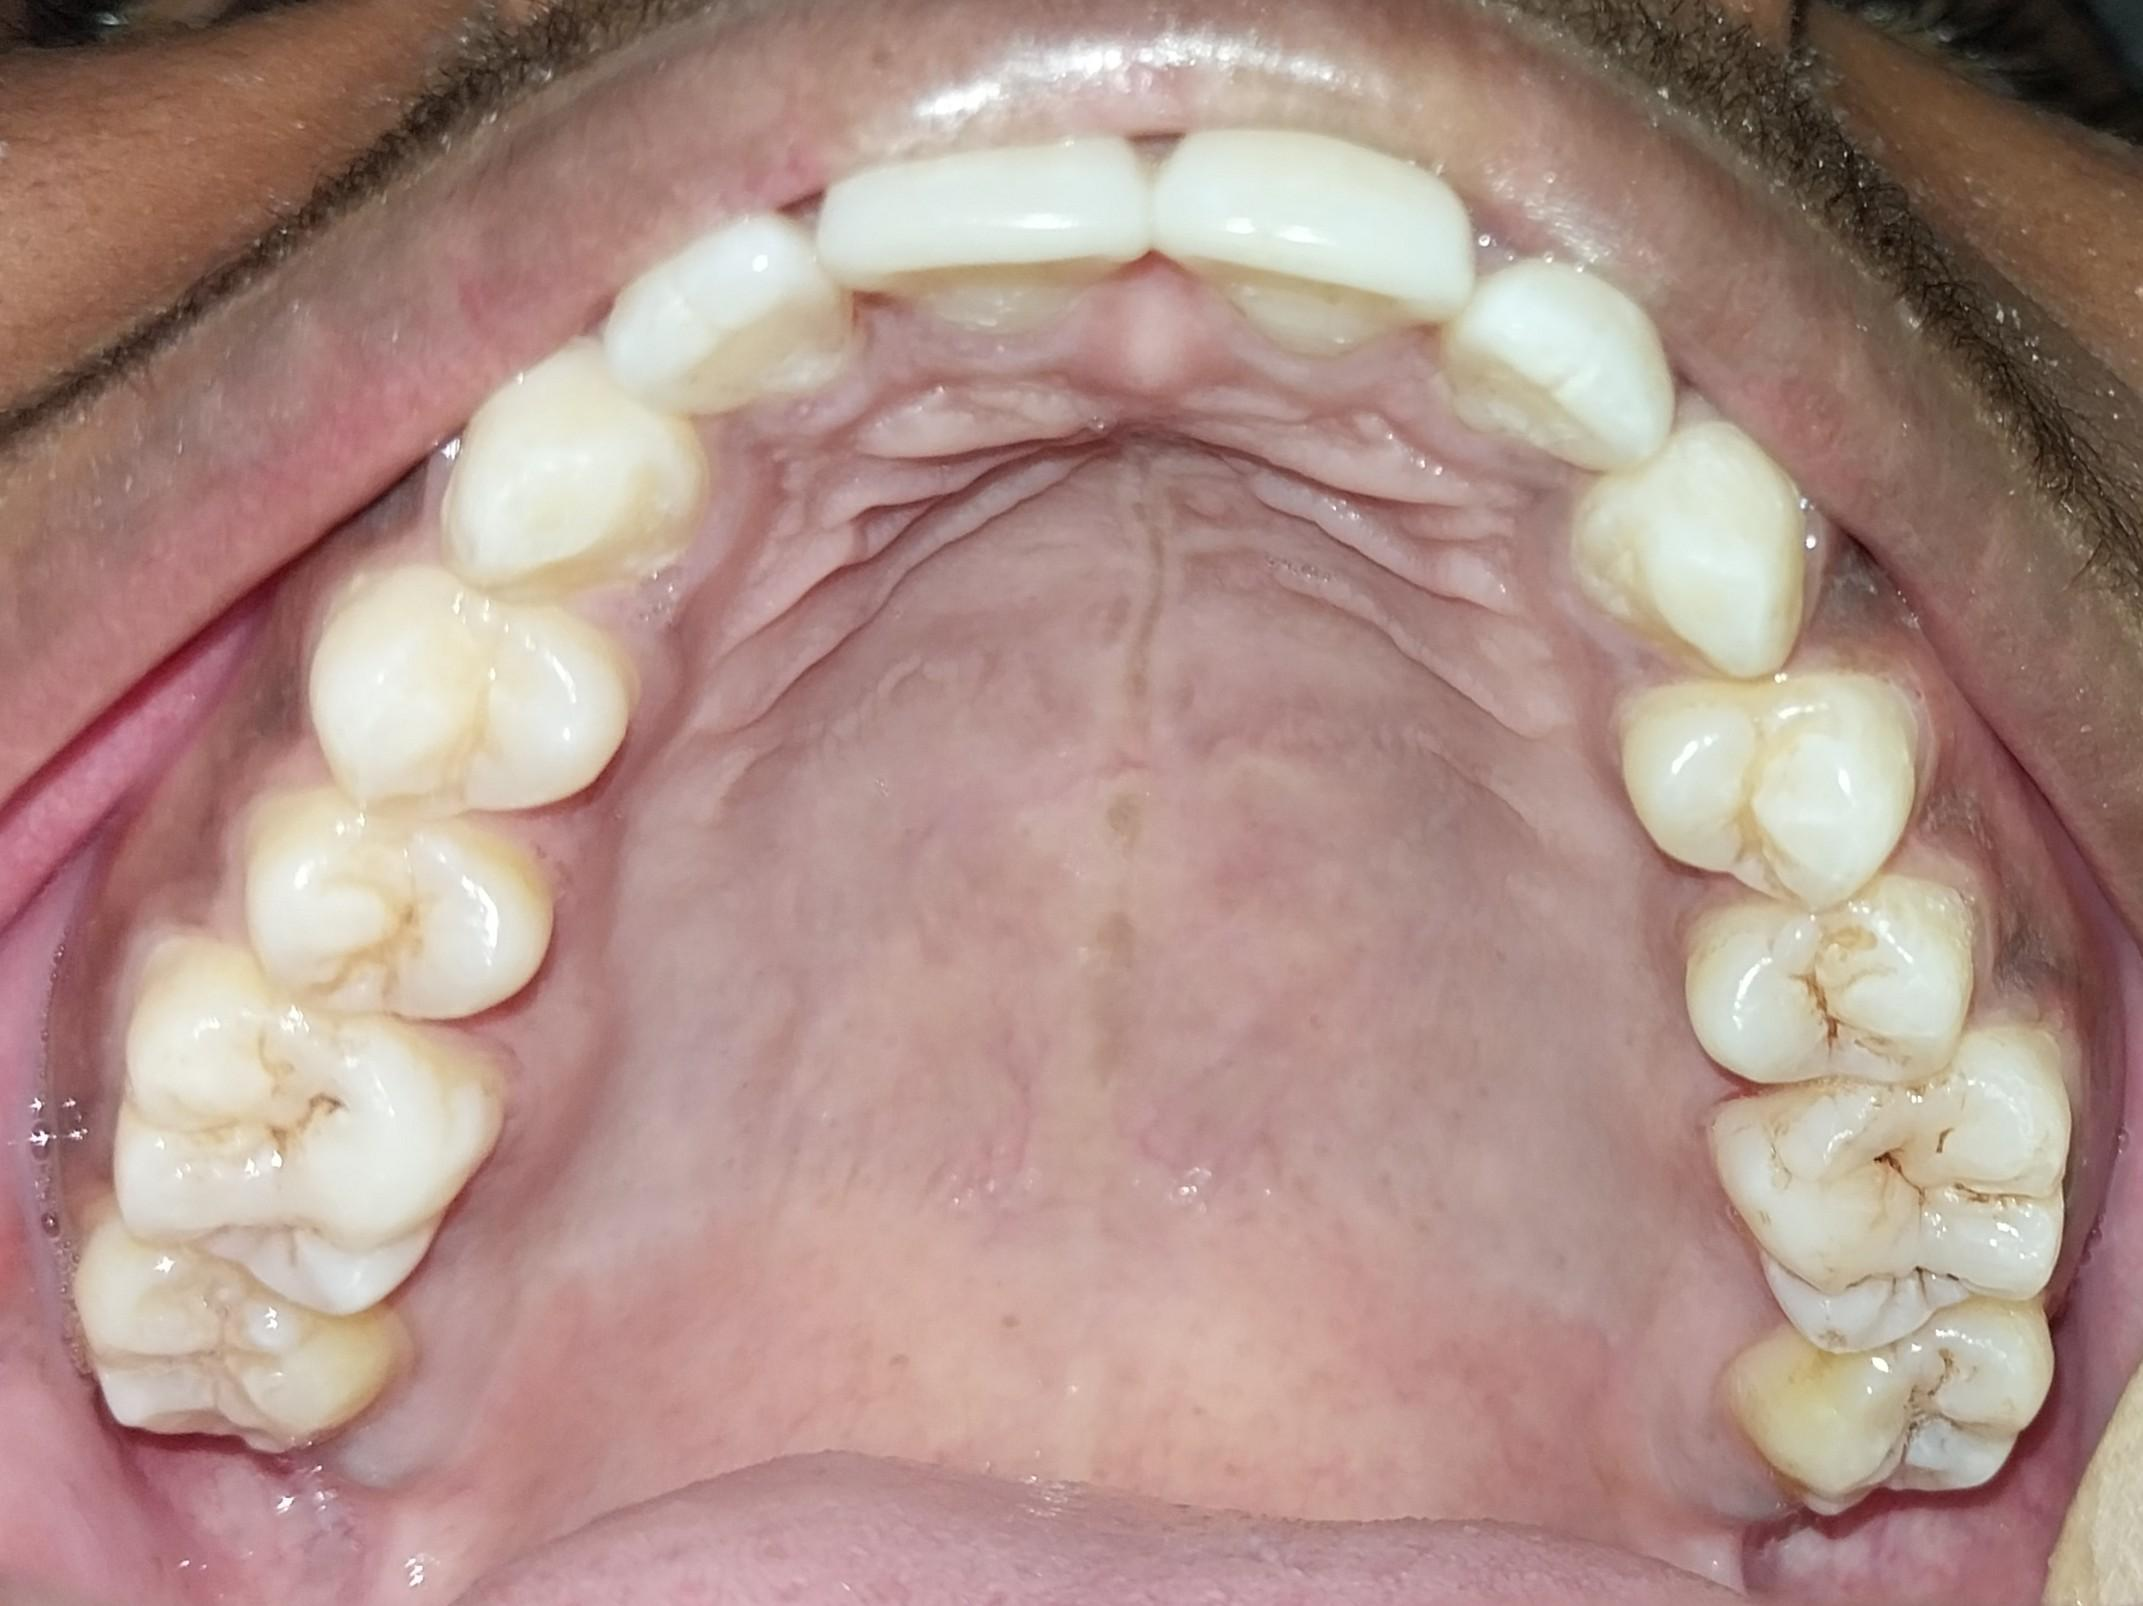D: (115, 950, 493, 1311), (1702, 1050, 2077, 1355)
